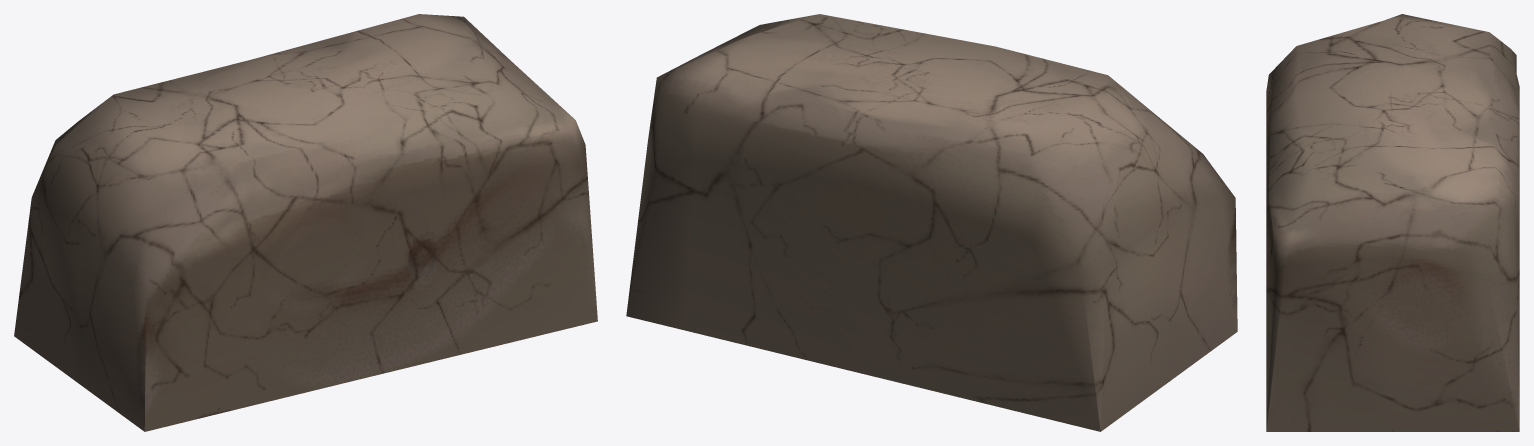
Rendered from 1x2_breakable_crack02.glb.
The picture shows the model from 3 angles, left to right: view 1: azimuth 30°, elevation 25°; view 2: azimuth 150°, elevation 25°; view 3: azimuth 270°, elevation 25°; orthographic projection. The views are drawn at different scales.
Visible parts, largest first — view 1: stone_crack02; view 2: stone_crack02; view 3: stone_crack02.
Part boxes in pixels (bbox=[...]): stone_crack02: bbox=[14, 14, 597, 431]; stone_crack02: bbox=[626, 14, 1237, 431]; stone_crack02: bbox=[1266, 14, 1519, 431].
Bounding box in the file's own units: 1 × 0.5009 × 0.5.
Materials: 1 (1 with a texture image).
